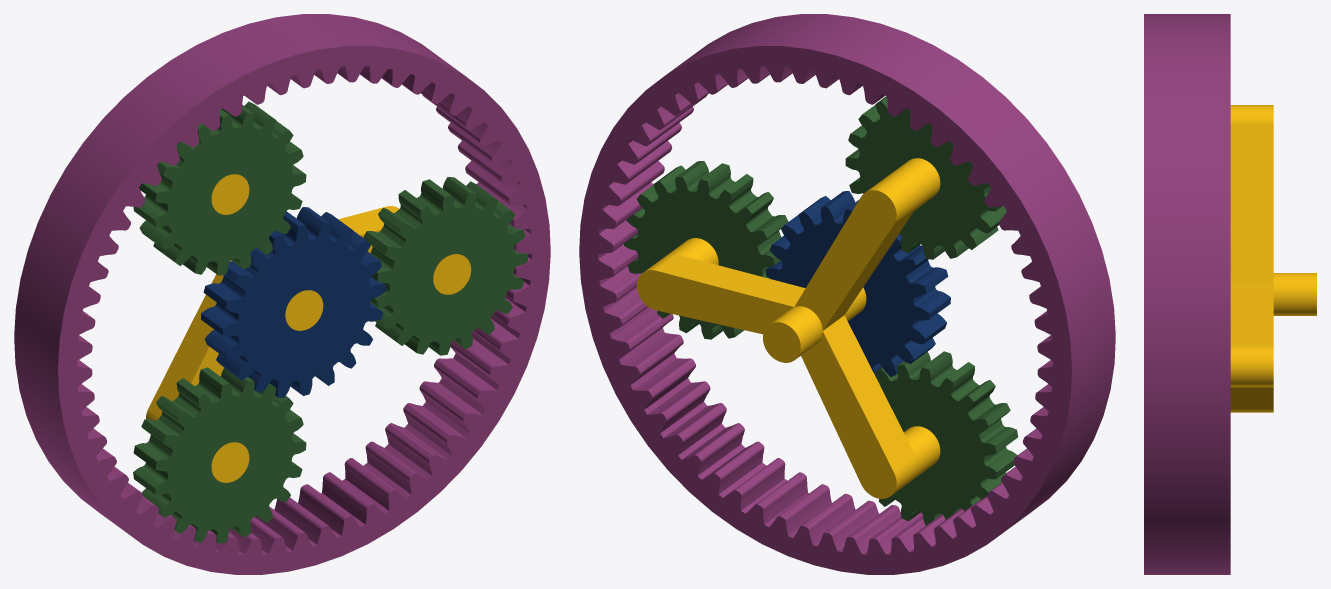
File: Planetary_Gear_System.gltf
3 views of the same model, side by side, from view 1: azimuth 30°, elevation 25°; view 2: azimuth 150°, elevation 25°; view 3: azimuth 270°, elevation 25° (orthographic).
Parts seen in each view (by area): view 1: mesh507_mesh_2, mesh507_mesh, mesh0_mesh_2, mesh242_mesh_2, mesh124_mesh_2, mesh360_mesh_2, mesh507_mesh_1, mesh478_mesh_22, mesh478_mesh, mesh478_mesh_13, mesh478_mesh_25, mesh478_mesh_5 (+4 smaller); view 2: mesh507_mesh_3, mesh507_mesh, mesh507_mesh_1, mesh124_mesh_3, mesh360_mesh_3, mesh0_mesh_3, mesh242_mesh_3, mesh478_mesh_17, mesh478_mesh_21, mesh478_mesh_9, mesh478_mesh_22, mesh478_mesh_7 (+7 smaller); view 3: mesh507_mesh_1, mesh478_mesh_10, mesh478_mesh_7, mesh478_mesh_6, mesh478_mesh_26, mesh478_mesh_20, mesh478_mesh_12, mesh507_mesh.
Boxes of the visible parts, x1,y1,x2,y2 form: mesh507_mesh_2: (58, 46, 550, 574); mesh507_mesh: (14, 119, 145, 540); mesh0_mesh_2: (223, 223, 385, 397); mesh242_mesh_2: (376, 193, 527, 355); mesh124_mesh_2: (155, 113, 306, 275); mesh360_mesh_2: (155, 381, 306, 543); mesh507_mesh_1: (103, 14, 464, 150); mesh478_mesh_22: (148, 274, 223, 416); mesh478_mesh: (285, 290, 323, 330); mesh478_mesh_13: (211, 174, 249, 214); mesh478_mesh_25: (211, 442, 249, 482); mesh478_mesh_5: (433, 254, 471, 294); mesh507_mesh_3: (579, 46, 1071, 574); mesh507_mesh: (984, 119, 1115, 540); mesh507_mesh_1: (665, 14, 1026, 150); mesh124_mesh_3: (845, 101, 996, 259); mesh360_mesh_3: (875, 365, 996, 525); mesh0_mesh_3: (766, 207, 928, 376); mesh242_mesh_3: (624, 177, 774, 339); mesh478_mesh_17: (794, 190, 896, 330); mesh478_mesh_21: (801, 331, 896, 498); mesh478_mesh_9: (637, 270, 793, 334); mesh478_mesh_22: (823, 315, 915, 472); mesh478_mesh_7: (656, 254, 805, 306); mesh507_mesh_1: (1144, 14, 1230, 565); mesh478_mesh_10: (1230, 125, 1273, 281); mesh478_mesh_7: (1230, 282, 1273, 345); mesh478_mesh_6: (1230, 346, 1273, 387); mesh478_mesh_26: (1273, 275, 1316, 315); mesh478_mesh_20: (1230, 387, 1273, 408); mesh478_mesh_12: (1230, 107, 1273, 124); mesh507_mesh: (1144, 566, 1230, 574).
Bounding box in the file's own units: 0.065 × 0.0649 × 0.02.
